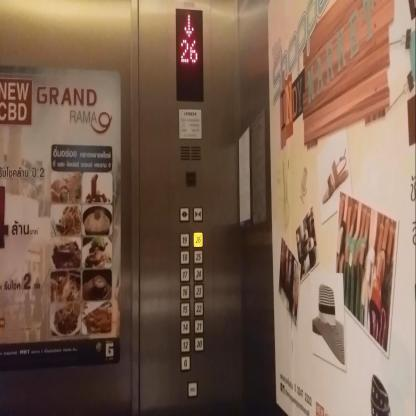12: (180, 337, 190, 353)
14: (180, 319, 190, 335)
15: (180, 301, 190, 318)
16: (180, 284, 189, 299)
17: (180, 266, 189, 282)
18: (180, 249, 190, 265)
19: (180, 232, 189, 247)
20: (194, 336, 204, 351)
21: (194, 318, 204, 334)
22: (194, 301, 204, 316)
23: (193, 283, 203, 299)
24: (193, 266, 203, 282)
25: (192, 249, 203, 265)
26: (193, 231, 203, 247)
G: (180, 355, 191, 370)
blur: (186, 171, 196, 187)
close: (193, 206, 203, 221)
led: (174, 7, 204, 102)
open: (180, 207, 189, 221)
text_blur: (188, 380, 197, 398)
